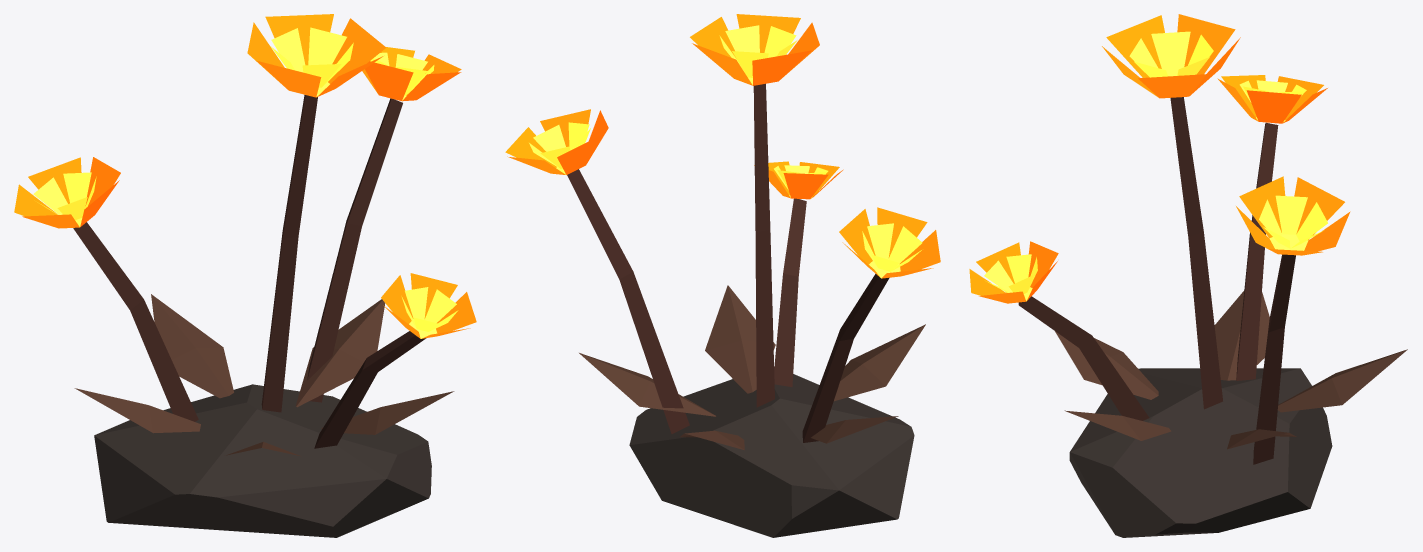
The model's file is fire_flowers.glb.
3 renders of one model, left to right at view 1: azimuth 30°, elevation 25°; view 2: azimuth 150°, elevation 25°; view 3: azimuth 270°, elevation 25°, orthographic. The views are drawn at different scales.
Parts seen in each view (by area): view 1: fire_flowers; view 2: fire_flowers; view 3: fire_flowers.
Boxes of the visible parts, box(x1,y1,x2,y2) form: fire_flowers: box(14, 14, 476, 537); fire_flowers: box(505, 14, 940, 537); fire_flowers: box(969, 14, 1407, 537).
Size of the model in its own units: 0.5254 by 0.5219 by 0.4604.
